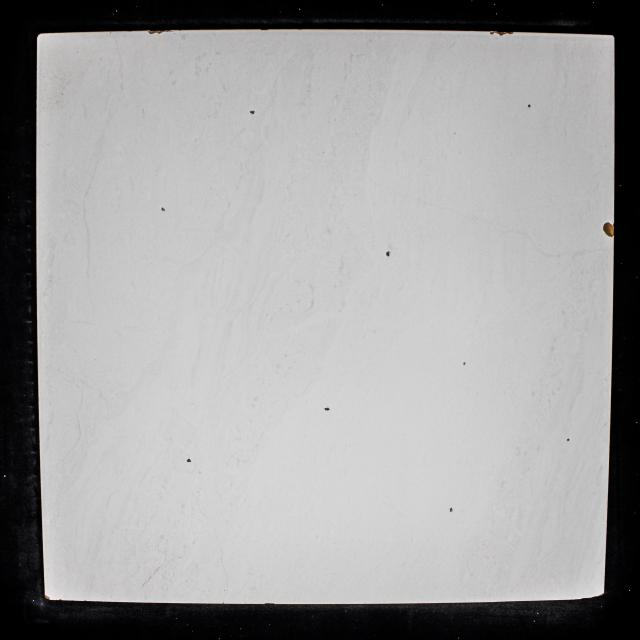edge-chipping: (602, 221, 615, 238), (489, 31, 515, 37), (147, 30, 174, 35), (582, 594, 604, 599), (45, 595, 50, 600)
hole: (160, 207, 166, 212), (249, 110, 255, 115), (386, 251, 391, 257), (186, 458, 192, 462), (324, 407, 330, 411), (449, 507, 453, 512), (527, 104, 531, 108), (463, 361, 466, 366), (567, 438, 570, 442)
